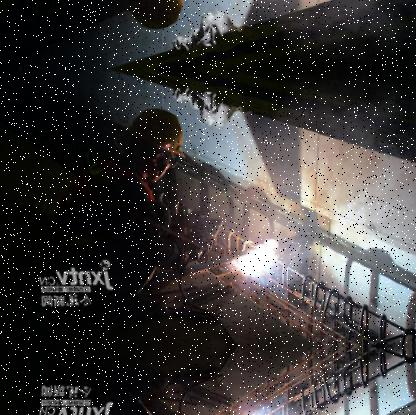helmet: (122, 105, 186, 184), (121, 0, 186, 32)
